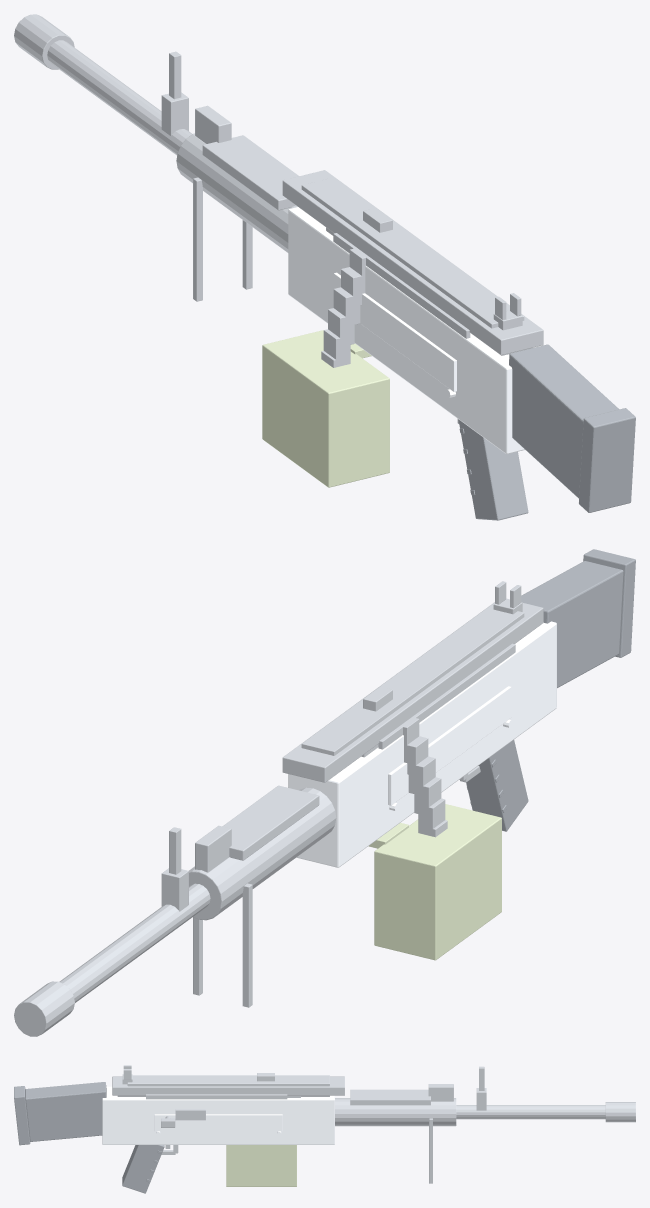
3 renders of one model, top to bottom at view 1: azimuth 30°, elevation 25°; view 2: azimuth 150°, elevation 25°; view 3: azimuth 270°, elevation 25°, orthographic. The views are drawn at different scales.
Parts seen in each view (by area): view 1: mag, Receiver, FeedCover, StockBody, StockBodyPlate, Grip, Handguard, Barrel, HandguardTop, ReceiverRibL, BeltTail, StockIrons (+5 smaller); view 2: Receiver, mag, FeedCover, StockBody, Handguard, Barrel, HandguardTop, ReceiverRibL, Grip, BeltTail, StockIrons, FlashHider (+5 smaller); view 3: Receiver, FeedCover, StockBody, mag, Handguard, Barrel, ReceiverRibR, HandguardTop, Grip, FeedTray, StockBodyPlate, FlashHider (+4 smaller).
Boxes of the visible parts, bbox=[...] form: mag: bbox=[262, 330, 389, 487]; Receiver: bbox=[288, 207, 541, 454]; FeedCover: bbox=[282, 170, 543, 355]; StockBody: bbox=[509, 344, 619, 498]; StockBodyPlate: bbox=[579, 408, 635, 512]; Grip: bbox=[458, 419, 528, 520]; Handguard: bbox=[176, 133, 297, 252]; Barrel: bbox=[47, 40, 192, 155]; HandguardTop: bbox=[202, 135, 298, 210]; ReceiverRibL: bbox=[333, 272, 456, 391]; BeltTail: bbox=[321, 248, 365, 367]; StockIrons: bbox=[161, 51, 522, 330]; Receiver: bbox=[288, 621, 556, 867]; mag: bbox=[368, 804, 501, 960]; FeedCover: bbox=[282, 602, 543, 782]; StockBody: bbox=[521, 561, 623, 687]; Handguard: bbox=[189, 787, 336, 920]; Barrel: bbox=[59, 883, 210, 1002]; HandguardTop: bbox=[222, 785, 319, 860]; ReceiverRibL: bbox=[388, 686, 511, 805]; Grip: bbox=[466, 740, 528, 831]; BeltTail: bbox=[401, 717, 447, 837]; StockIrons: bbox=[161, 581, 522, 911]; FlashHider: bbox=[14, 981, 74, 1036]; Receiver: bbox=[102, 1086, 334, 1144]; FeedCover: bbox=[112, 1075, 344, 1095]; StockBody: bbox=[25, 1082, 106, 1141]; mag: bbox=[226, 1145, 296, 1186]; Handguard: bbox=[335, 1098, 456, 1126]; Barrel: bbox=[456, 1105, 605, 1119]; ReceiverRibR: bbox=[154, 1114, 282, 1131]; HandguardTop: bbox=[350, 1089, 430, 1105]; Grip: bbox=[122, 1145, 164, 1193]; FeedTray: bbox=[146, 1094, 287, 1099]; StockBodyPlate: bbox=[14, 1086, 30, 1145]; FlashHider: bbox=[605, 1102, 635, 1122].
Size of the model in its own units: 0.168 by 0.275 by 1.23.
